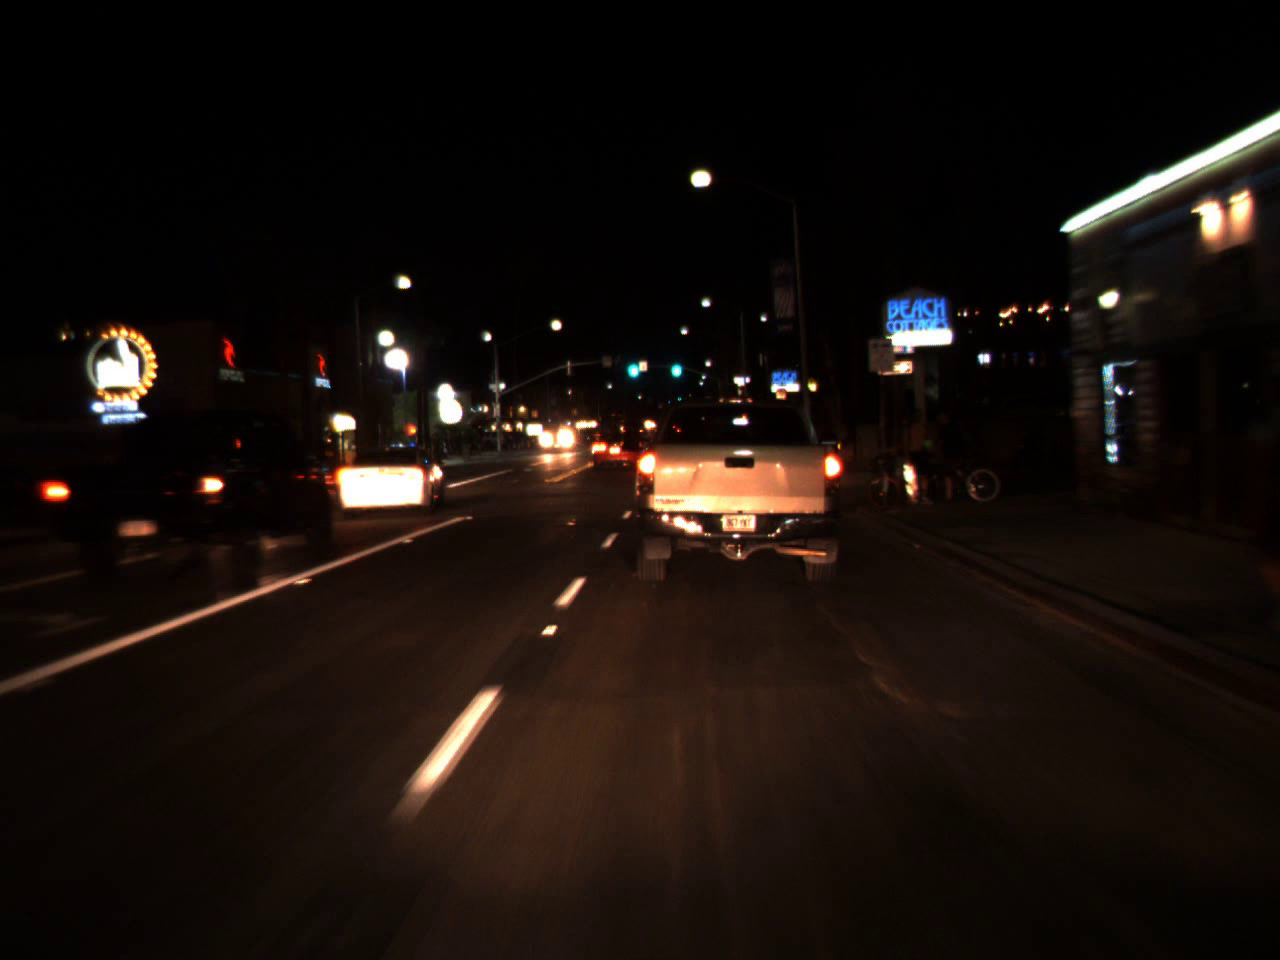go: (623, 347, 641, 383), (667, 351, 683, 381)
